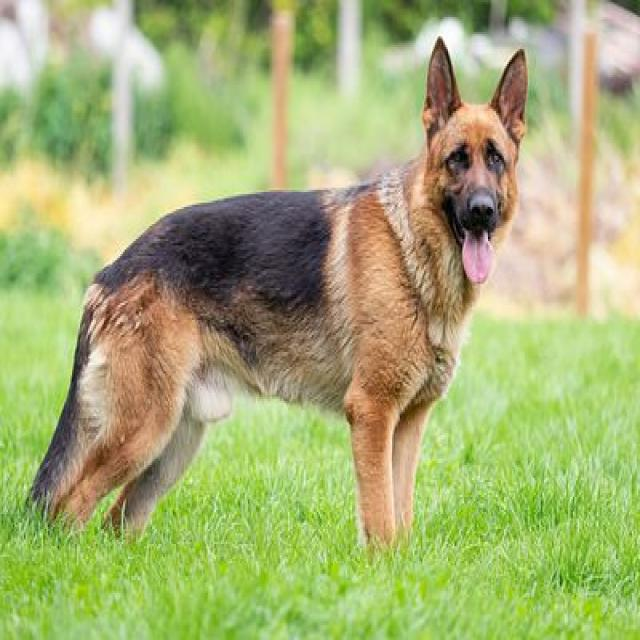GERMAN_SHEPHERD: (26, 34, 539, 563)
